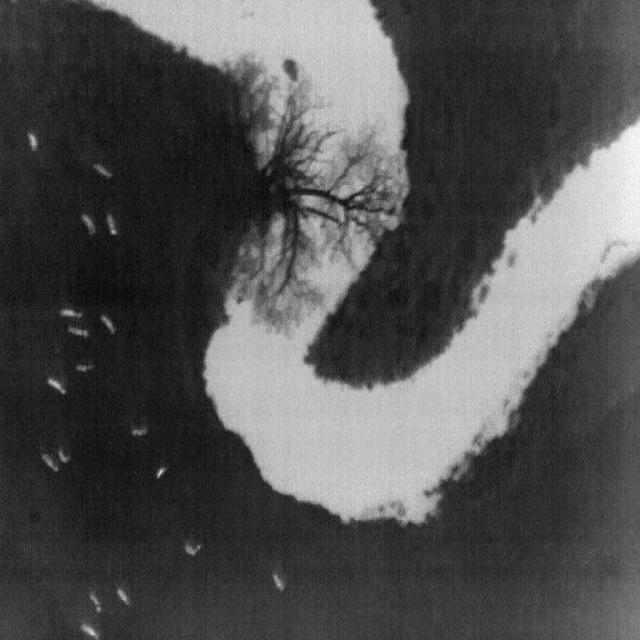deer: (80, 622, 100, 640), (41, 453, 59, 473), (46, 377, 66, 395), (80, 213, 96, 235), (99, 314, 116, 334), (93, 164, 113, 180), (88, 591, 103, 612), (272, 572, 286, 592), (116, 588, 131, 606), (185, 542, 203, 556), (106, 214, 118, 235), (58, 308, 82, 318), (67, 326, 90, 336), (26, 132, 38, 151), (156, 465, 170, 479), (57, 450, 71, 464), (76, 363, 96, 372), (132, 428, 148, 436)
